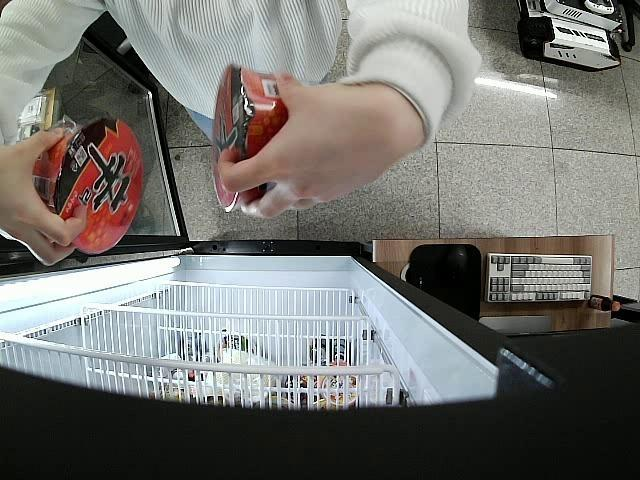01_ShinRamen_L: (40, 118, 146, 253), (210, 64, 289, 208)
